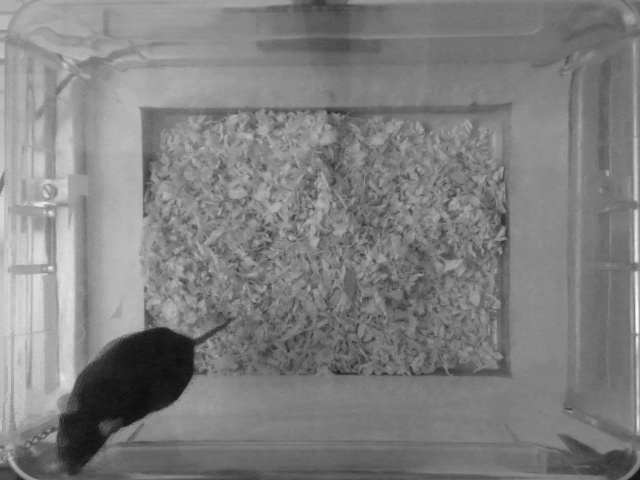mice: (54, 320, 230, 480)
